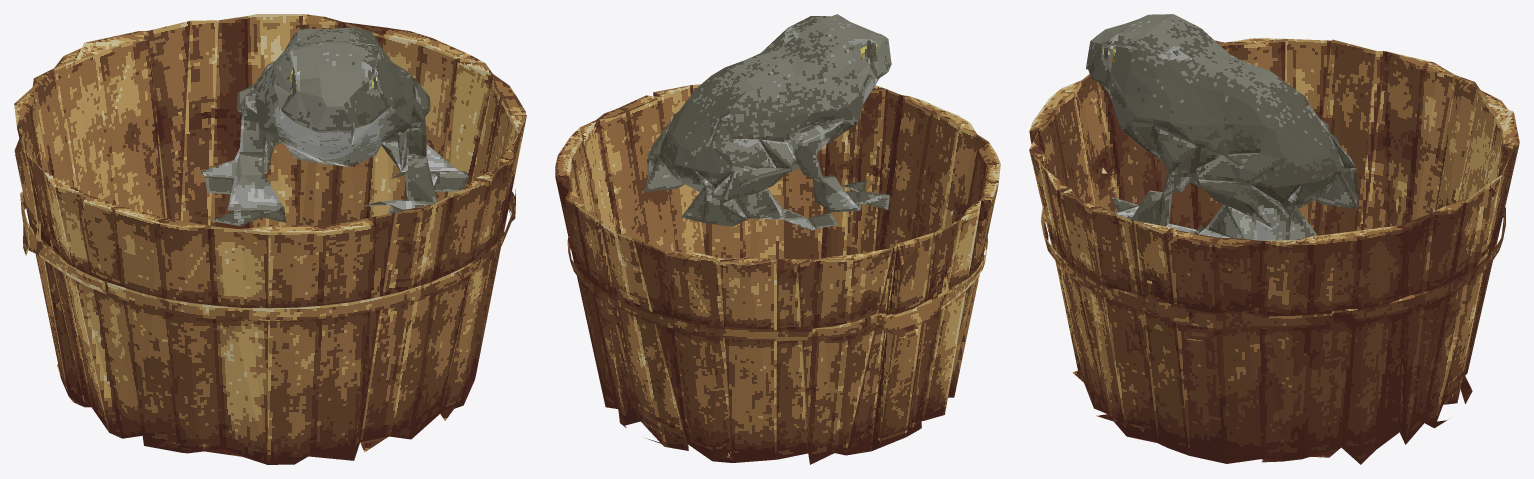
The model's file is frog.glb.
3 renders of one model, left to right at view 1: azimuth 30°, elevation 25°; view 2: azimuth 150°, elevation 25°; view 3: azimuth 270°, elevation 25°, orthographic. The views are drawn at different scales.
Parts seen in each view (by area): view 1: model_tub, model_frog; view 2: model_tub, model_frog; view 3: model_tub, model_frog.
Part boxes in pixels (<box>): model_tub: <box>14,14,526,464</box>; model_frog: <box>200,27,468,226</box>; model_tub: <box>555,84,1000,464</box>; model_frog: <box>644,14,891,230</box>; model_tub: <box>1029,38,1519,464</box>; model_frog: <box>1086,14,1358,240</box>.
Bounding box in the file's own units: 26.44 × 21.92 × 26.4.
2 materials, 2 textured.
